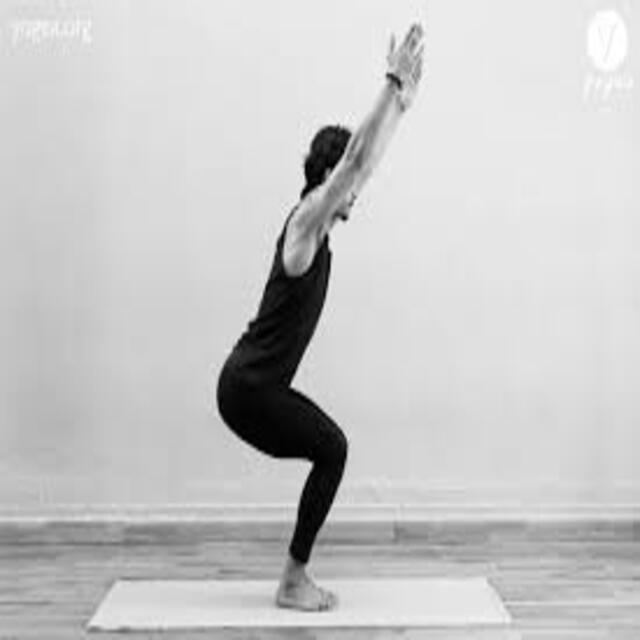Squat_Pose: (218, 21, 425, 611)
